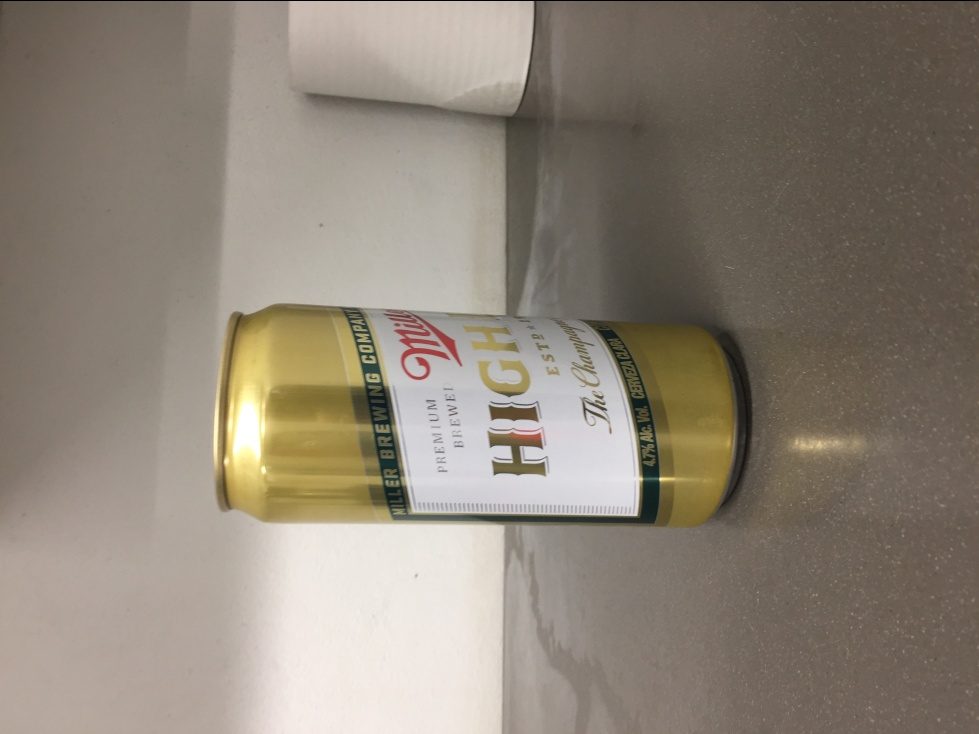miller: (210, 300, 751, 531)
